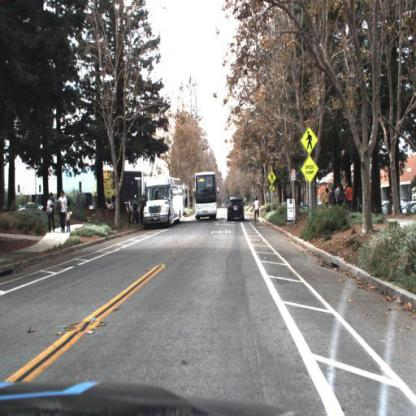biker: (252, 195, 264, 231)
car: (225, 195, 248, 225)
pedestrian: (56, 188, 67, 232), (345, 180, 355, 216), (125, 196, 135, 225), (333, 184, 342, 210), (323, 187, 333, 210), (65, 206, 73, 233), (323, 184, 331, 209), (338, 185, 347, 206)
truck: (140, 176, 185, 230), (192, 171, 220, 222)
